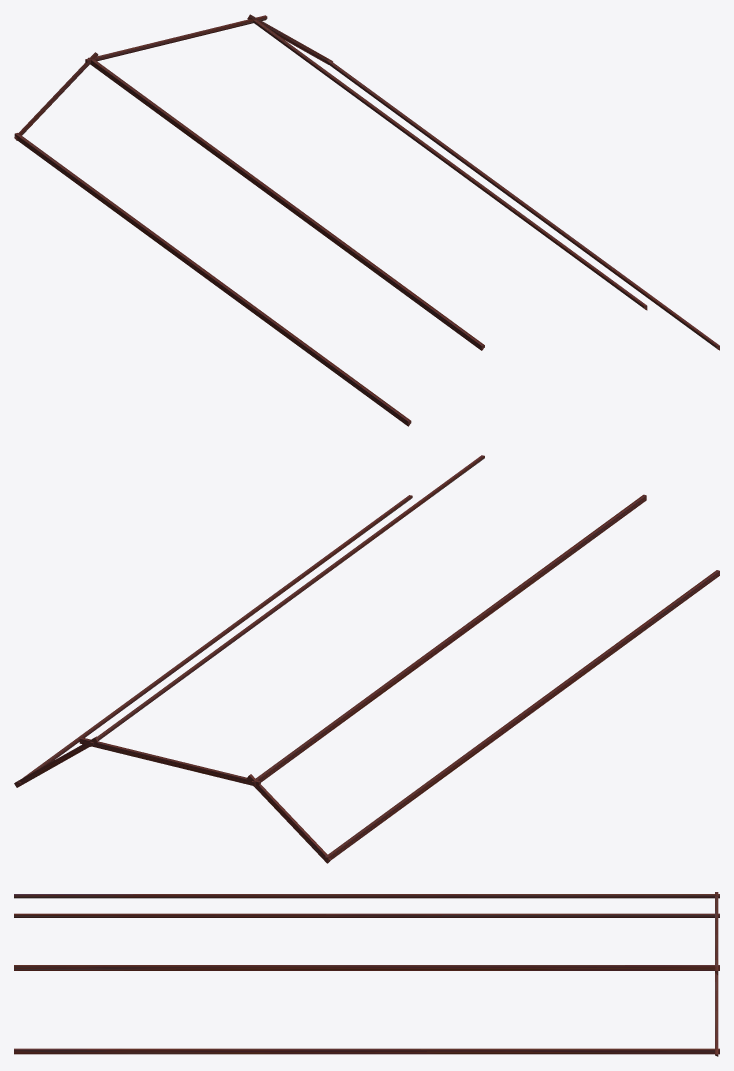
The model's file is  dorm crown.glb.
3 views of the same model, one above another, from view 1: azimuth 30°, elevation 25°; view 2: azimuth 150°, elevation 25°; view 3: azimuth 270°, elevation 25° (orthographic). The views are drawn at different scales.
Parts seen in each view (by area): view 1: Cube.031, Cube.035, Cube.028, Cube.036, Cube.032; view 2: Cube.031, Cube.035, Cube.036, Cube.028, Cube.032, Cube.034; view 3: Cube.028, Cube.036, Cube.031, Cube.035, Cube.033, Cube.032.
Boxes of the visible parts, <box> form: Cube.031: <box>14,133,411,426</box>; Cube.035: <box>88,57,484,350</box>; Cube.028: <box>325,59,719,350</box>; Cube.036: <box>253,19,647,310</box>; Cube.032: <box>85,15,267,62</box>; Cube.031: <box>324,570,719,862</box>; Cube.035: <box>251,494,646,787</box>; Cube.036: <box>89,455,484,746</box>; Cube.028: <box>17,495,412,786</box>; Cube.032: <box>79,737,260,787</box>; Cube.034: <box>246,774,331,863</box>; Cube.028: <box>14,1048,719,1054</box>; Cube.036: <box>14,965,719,970</box>; Cube.031: <box>14,913,719,917</box>; Cube.035: <box>14,894,719,898</box>; Cube.033: <box>715,960,718,1056</box>; Cube.032: <box>715,892,718,974</box>.
Size of the model in its own units: 4.23 by 0.8874 by 9.08.
Materials: 1 (1 with a texture image).
